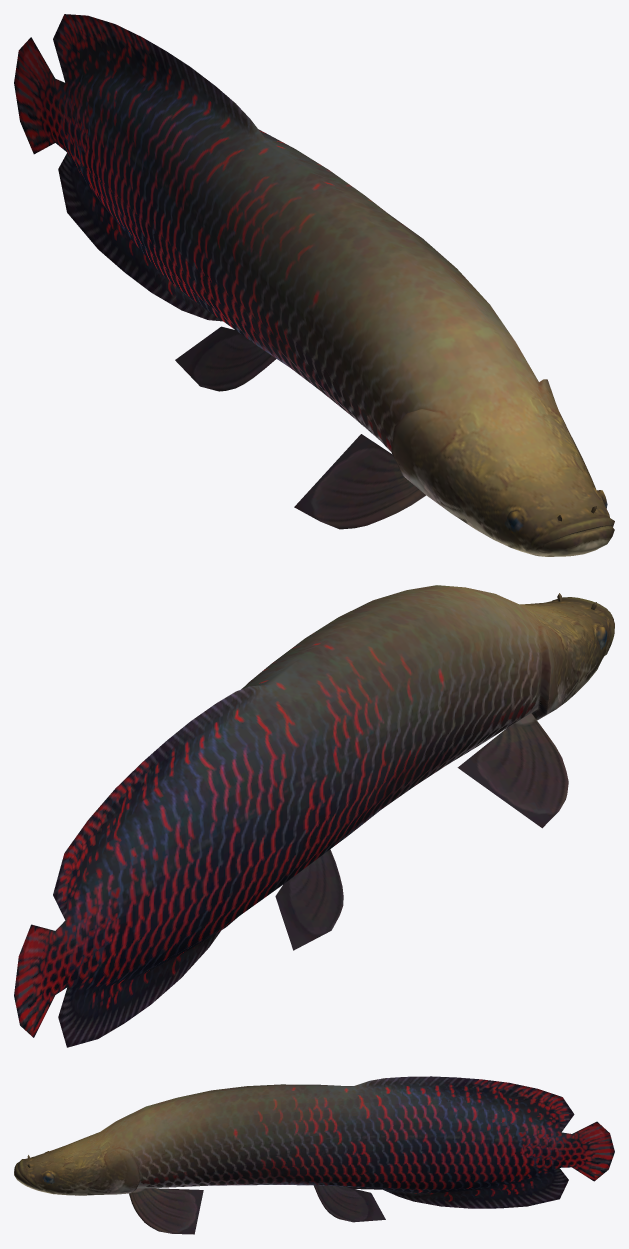
File: FishPiraruku.glb
3 views of the same model, one above another, from view 1: azimuth 30°, elevation 25°; view 2: azimuth 150°, elevation 25°; view 3: azimuth 270°, elevation 25° (orthographic). The views are drawn at different scales.
Parts seen in each view (by area): view 1: FishPiraruku__mPiraruku; view 2: FishPiraruku__mPiraruku; view 3: FishPiraruku__mPiraruku.
Boxes of the visible parts, box(x1,y1,x2,y2) form: FishPiraruku__mPiraruku: box(14, 14, 614, 556); FishPiraruku__mPiraruku: box(14, 585, 614, 1047); FishPiraruku__mPiraruku: box(14, 1076, 614, 1234).
Bounding box in the file's own units: 7.91 × 7.75 × 31.9.
Materials: 1 (1 with a texture image).
